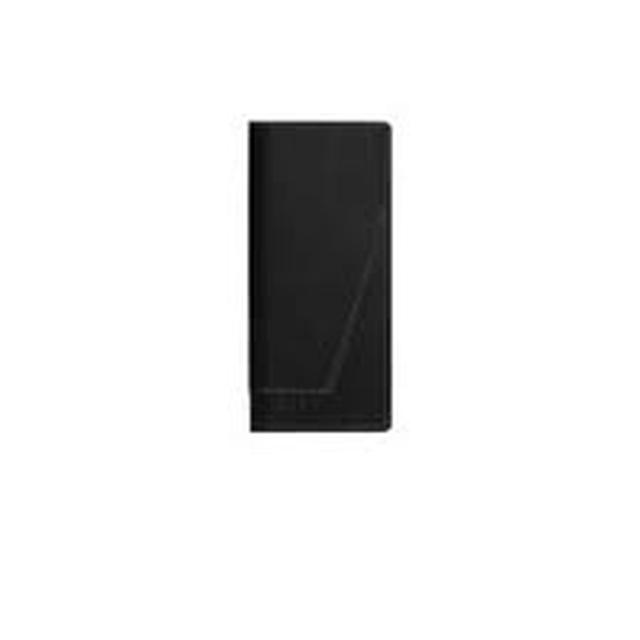wallet: (223, 112, 417, 494)
